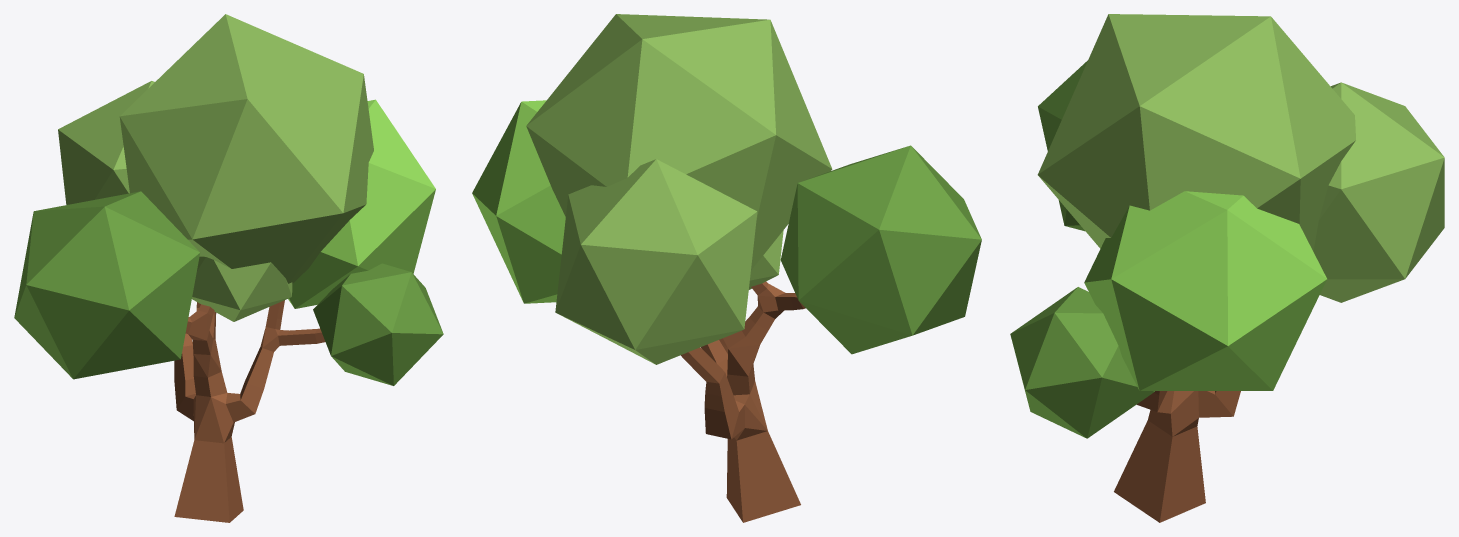
File: arvore4.fbx
The picture shows the model from 3 angles, left to right: view 1: azimuth 30°, elevation 25°; view 2: azimuth 150°, elevation 25°; view 3: azimuth 270°, elevation 25°; orthographic projection. The views are drawn at different scales.
Parts seen in each view (by area): view 1: Icosphere.011, Icosphere.010, Cube, Icosphere.018, Icosphere.008, Icosphere.006, Icosphere.001; view 2: Icosphere.011, Icosphere.006, Icosphere.010, Cube, Icosphere.018, Icosphere.001; view 3: Icosphere.011, Icosphere.018, Icosphere.006, Icosphere.008, Cube, Icosphere.010.
Part boxes in pixels (x1,y1,x2,y2): Icosphere.011: [119, 14, 373, 283]; Icosphere.010: [14, 191, 199, 379]; Cube: [174, 300, 325, 522]; Icosphere.018: [288, 99, 435, 308]; Icosphere.008: [313, 263, 443, 385]; Icosphere.006: [58, 81, 154, 204]; Icosphere.001: [192, 256, 292, 321]; Icosphere.011: [526, 14, 832, 270]; Icosphere.006: [555, 159, 757, 364]; Icosphere.010: [780, 145, 981, 354]; Cube: [681, 281, 805, 522]; Icosphere.018: [472, 100, 565, 303]; Icosphere.001: [749, 230, 783, 289]; Icosphere.011: [1037, 14, 1355, 251]; Icosphere.018: [1084, 191, 1327, 390]; Icosphere.006: [1313, 82, 1444, 302]; Icosphere.008: [1010, 287, 1154, 438]; Cube: [1114, 391, 1240, 522]; Icosphere.010: [1038, 60, 1087, 231].
Size of the model in its own units: 873 by 872 by 656.
